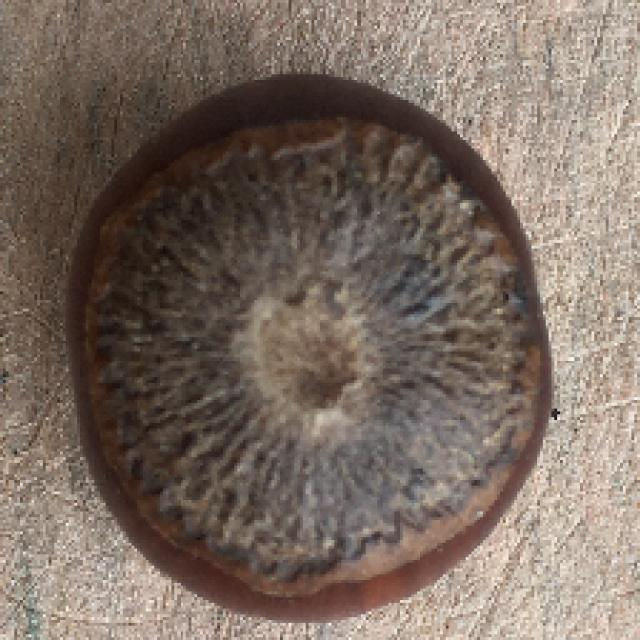DamagedHazelnut: (69, 71, 559, 622)
